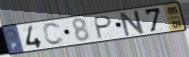4: (24, 24, 43, 49)
7: (144, 7, 163, 34)
8: (71, 17, 91, 43)
C: (42, 22, 66, 46)
N: (119, 8, 147, 38)
P: (93, 15, 114, 40)
